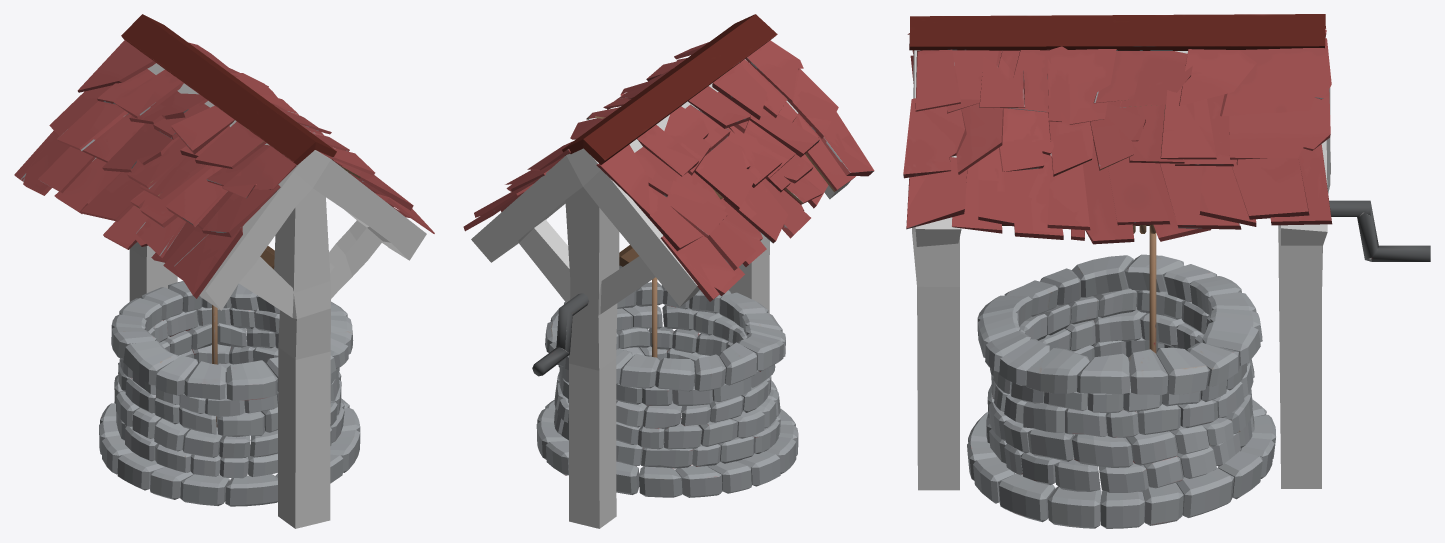
File: WellPaintedBakedDown.fbx
3 views of the same model, side by side, from view 1: azimuth 30°, elevation 25°; view 2: azimuth 150°, elevation 25°; view 3: azimuth 270°, elevation 25° (orthographic). The views are drawn at different scales.
Parts seen in each view (by area): view 1: WellRegJoined, WoodFramePlainLP; view 2: WellRegJoined, WoodFramePlainLP; view 3: WellRegJoined, WoodFramePlainLP.
Boxes of the visible parts, x1=… form: WellRegJoined: x1=14, y1=14, x2=434, y2=506; WoodFramePlainLP: x1=92, y1=63, x2=426, y2=528; WellRegJoined: x1=463, y1=14, x2=874, y2=497; WoodFramePlainLP: x1=471, y1=59, x2=850, y2=528; WellRegJoined: x1=903, y1=14, x2=1430, y2=528; WoodFramePlainLP: x1=912, y1=50, x2=1330, y2=490.
Bounding box in the file's own units: 1860 × 2753 × 2826.
